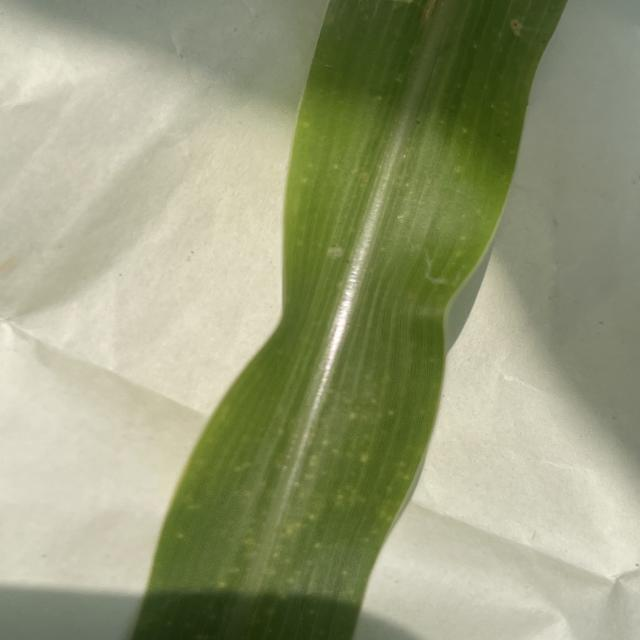millet_healthy: (140, 0, 565, 640)
